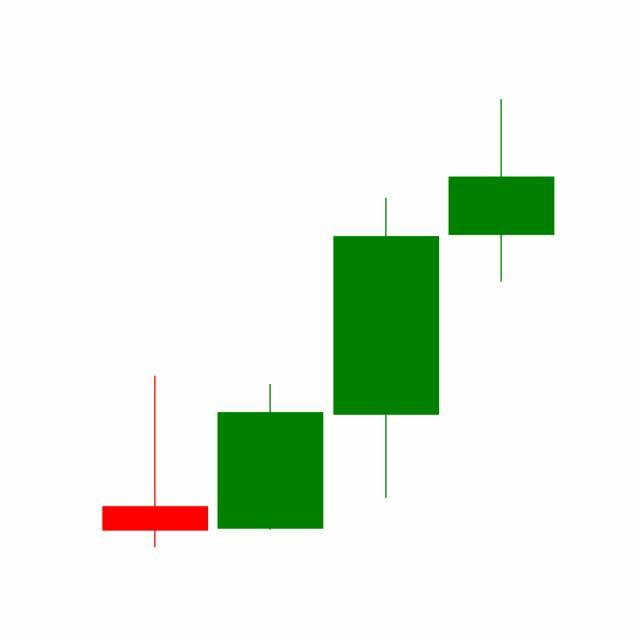Advance Block: (211, 100, 555, 536)
